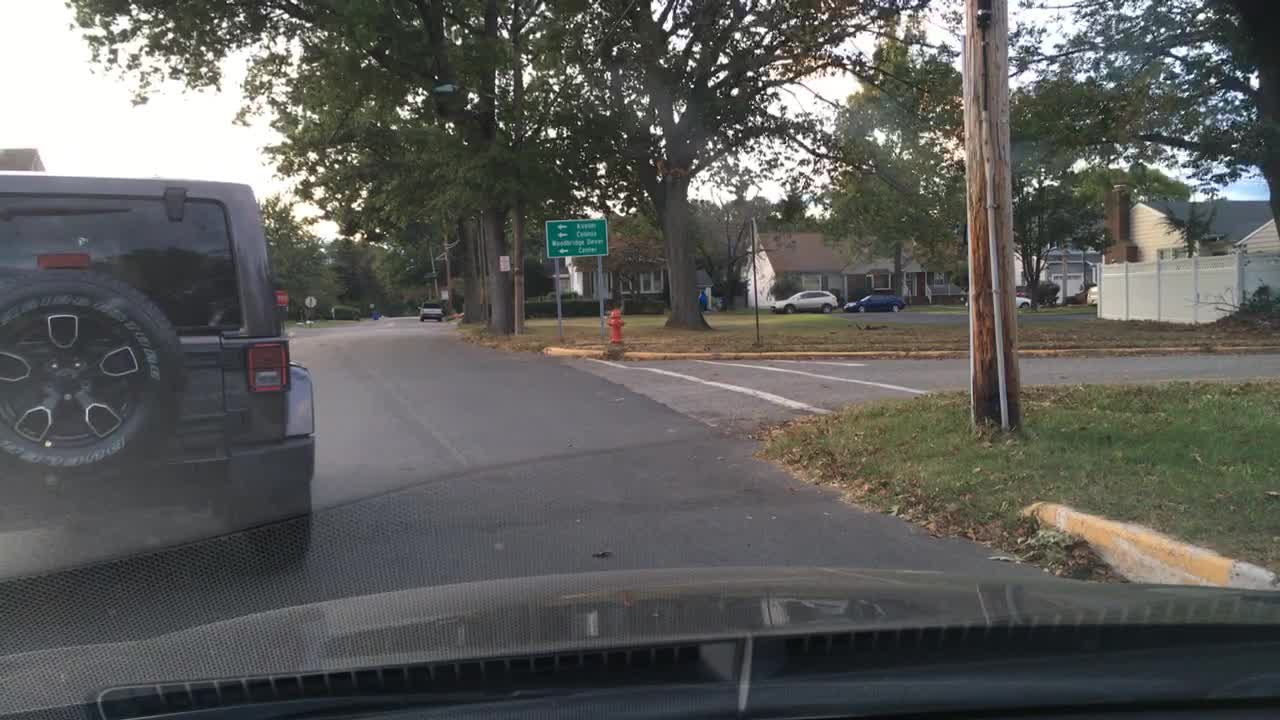car: (0, 147, 314, 585), (766, 287, 838, 314), (962, 287, 1032, 314), (840, 290, 908, 314), (415, 300, 444, 327), (1085, 285, 1097, 307)
traffic sign: (543, 218, 607, 260), (746, 212, 761, 253), (302, 293, 317, 309), (275, 289, 288, 307)
